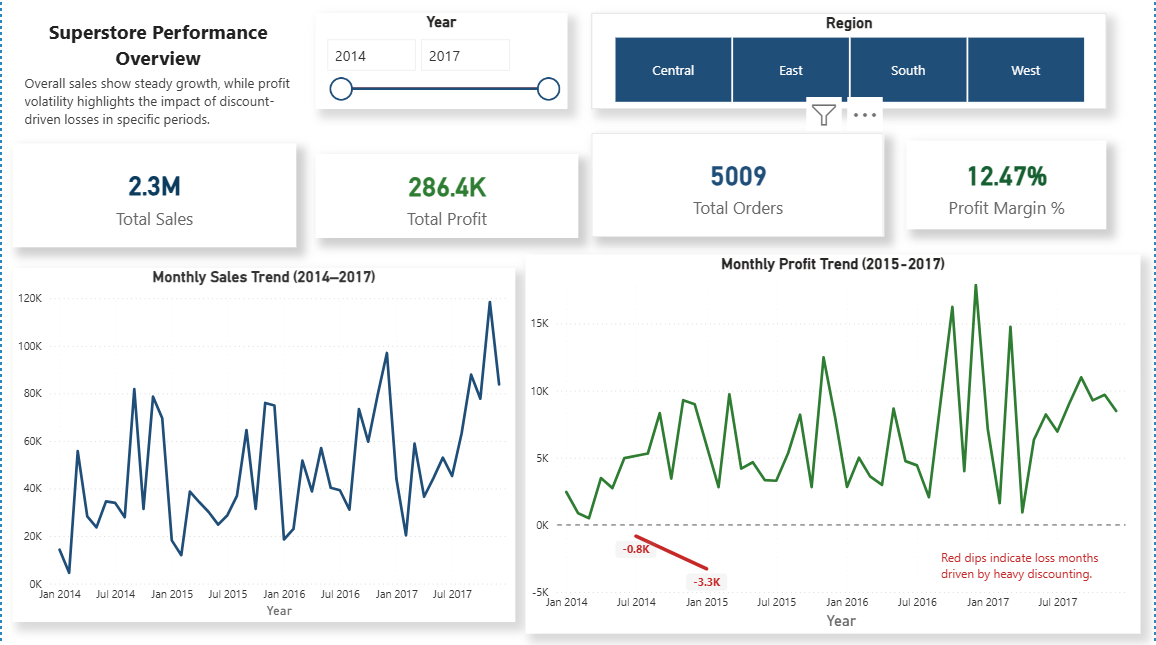

What the dashboard file says about the page in this screenshot:
{"tool":"powerbi","page":{"name":"Overview","canvas":[1280,720],"ordinal":0},"visuals":[{"type":"lineChart","title":"Monthly Sales Trend (2014–2017)","fields":{"Y":["superstore_clean_data.Total Sales"],"Category":["superstore_clean_data.Order_Date.Variation.Date Hierarchy.Year","superstore_clean_data.Order_Date.Variation.Date Hierarchy.Month"]},"box":[11.7,300,558.3,393.3],"z":0},{"type":"slicer","title":"Year","fields":{"Values":["superstore_clean_data.Order_Date.Variation.Date Hierarchy.Year"]},"box":[348.3,16.7,280,106.7],"z":1000},{"type":"slicer","title":"Region","fields":{"Values":["superstore_clean_data.Region"]},"box":[655,16.7,571.7,106.7],"z":2000},{"type":"card","fields":{"Values":["superstore_clean_data.Total Sales"]},"box":[11.7,161.7,315,115],"z":3000},{"type":"card","fields":{"Values":["superstore_clean_data.Total Profit"]},"box":[348.3,173.3,291.7,93.3],"z":4000},{"type":"card","fields":{"Values":["superstore_clean_data.Total Orders"]},"box":[655,150,325,115],"z":5000},{"type":"card","fields":{"Values":["superstore_clean_data.Profit Margin %"]},"box":[1005,158.3,221.7,98.3],"z":6000},{"type":"lineChart","title":"Monthly Profit Trend (2015-2017)","fields":{"Category":["superstore_clean_data.Order_Date.Variation.Date Hierarchy.Year","superstore_clean_data.Order_Date.Variation.Date Hierarchy.Month"],"Y":["superstore_clean_data.Profit Negative","superstore_clean_data.Profit Positive"]},"box":[582,285,683,421],"z":7000},{"type":"textbox","box":[1039,607,188,49],"z":8000},{"type":"textbox","box":[20,79,307,71],"z":9000},{"type":"textbox","box":[20,17,307,70],"z":10000}]}

Visuals, with their boxes in screenshot pixels (x1, y1, x2, y2), scaled from the page's 1280x720 canvas onto the 1156x645 screenshot:
"Monthly Sales Trend (2014–2017)" lineChart: select_region(11, 269, 515, 621)
"Year" slicer: select_region(315, 15, 567, 111)
"Region" slicer: select_region(592, 15, 1108, 111)
card - superstore_clean_data.Total Sales: select_region(11, 145, 295, 248)
card - superstore_clean_data.Total Profit: select_region(315, 155, 578, 239)
card - superstore_clean_data.Total Orders: select_region(592, 134, 885, 237)
card - superstore_clean_data.Profit Margin %: select_region(908, 142, 1108, 230)
"Monthly Profit Trend (2015-2017)" lineChart: select_region(526, 255, 1142, 632)
textbox: select_region(938, 544, 1108, 588)
textbox: select_region(18, 71, 295, 134)
textbox: select_region(18, 15, 295, 78)
